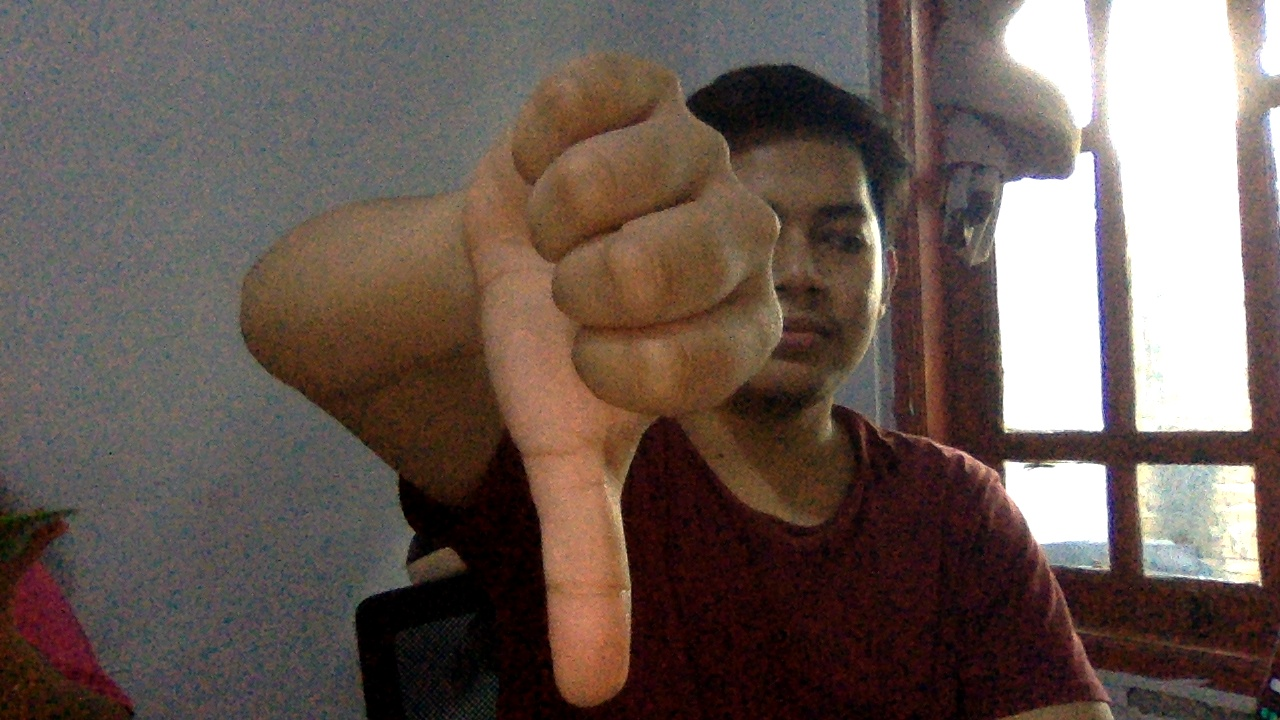thumbsdown: (439, 35, 802, 716)
